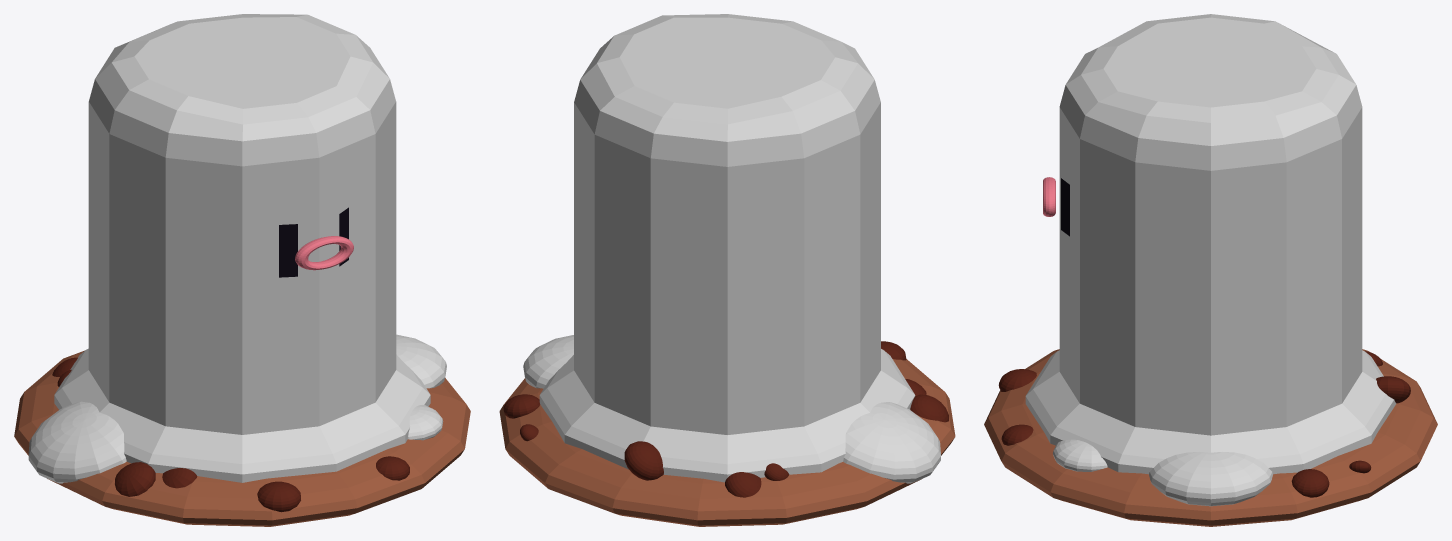
Rendered from FANTASMAMARSH.fbx.
3 renders of one model, left to right at view 1: azimuth 30°, elevation 25°; view 2: azimuth 150°, elevation 25°; view 3: azimuth 270°, elevation 25°, orthographic.
Parts seen in each view (by area): view 1: Sphere.010, Sphere.009, Torus.001; view 2: Sphere.010, Sphere.009; view 3: Sphere.010, Sphere.009.
Part boxes in pixels (left/top/right/bottom): Sphere.010: left=28, top=14, right=446, bottom=483; Sphere.009: left=14, top=350, right=470, bottom=526; Torus.001: left=295, top=236, right=353, bottom=270; Sphere.010: left=523, top=14, right=940, bottom=483; Sphere.009: left=499, top=341, right=955, bottom=526; Sphere.010: left=1025, top=14, right=1396, bottom=506; Sphere.009: left=984, top=349, right=1437, bottom=526.
Size of the model in its own units: 351 by 334 by 346.
